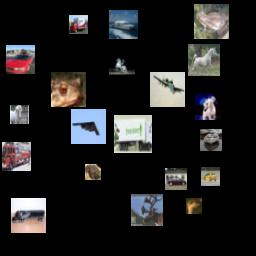airplane: (150, 72, 185, 107), (71, 109, 106, 144)
automobile: (6, 45, 35, 74), (165, 168, 187, 190), (201, 167, 220, 186)
bird: (186, 198, 202, 214)
deer: (131, 194, 163, 226)
frog: (51, 72, 86, 107), (194, 4, 229, 39), (85, 164, 101, 180)
ship: (109, 10, 138, 39), (200, 129, 222, 151)
truck: (114, 115, 152, 153), (11, 198, 46, 233), (2, 142, 31, 171), (69, 15, 88, 34)
